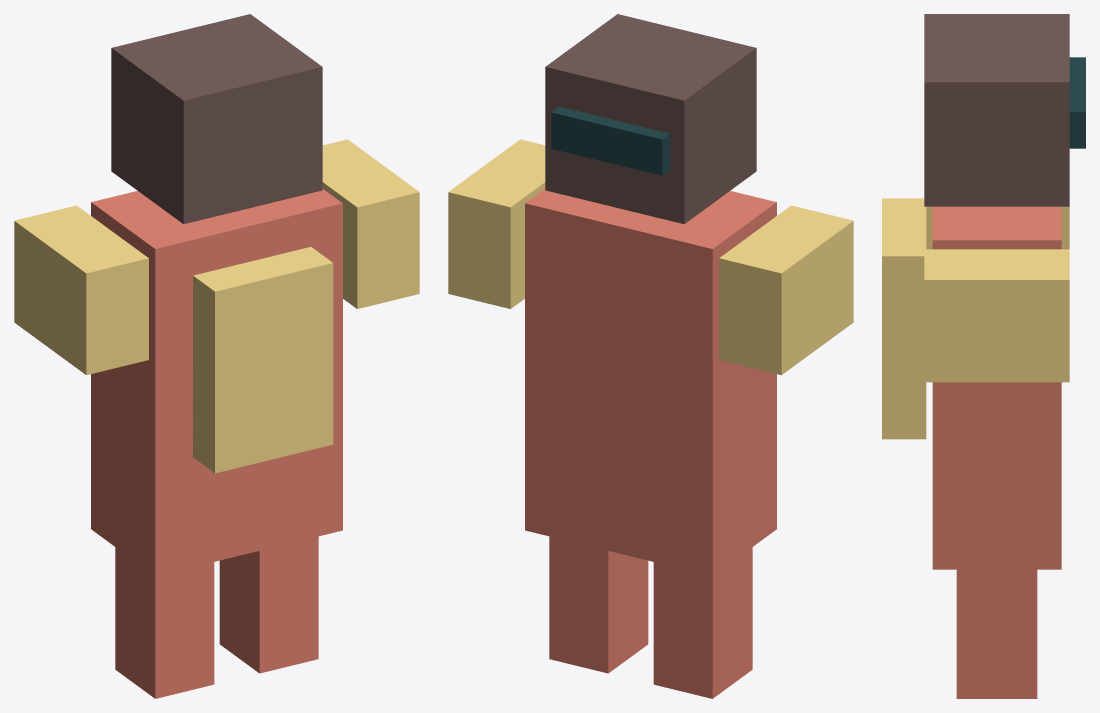
Rendered from seeker.glb.
3 views of the same model, side by side, from view 1: azimuth 30°, elevation 25°; view 2: azimuth 150°, elevation 25°; view 3: azimuth 270°, elevation 25° (orthographic).
Visible parts, largest first — view 1: body, helmet, pack, left-shoulder, left-leg, right-shoulder, right-leg; view 2: body, helmet, left-shoulder, left-leg, right-shoulder, right-leg, visor; view 3: body, helmet, right-shoulder, right-leg, pack, visor, left-shoulder.
Part boxes in pixels (x1,y1,x2,y2): body: (91, 189, 342, 576); helmet: (111, 14, 322, 224); pack: (193, 247, 333, 473); left-shoulder: (14, 205, 148, 375); left-leg: (115, 547, 214, 698); right-shoulder: (322, 139, 419, 308); right-leg: (219, 536, 318, 673); body: (525, 189, 776, 576); helmet: (545, 14, 756, 224); left-shoulder: (719, 205, 853, 375); left-leg: (653, 547, 752, 698); right-shoulder: (448, 139, 545, 308); right-leg: (549, 536, 648, 673); visor: (551, 106, 670, 175); body: (932, 206, 1061, 569); helmet: (924, 14, 1069, 206); right-shoulder: (924, 249, 1069, 382); right-leg: (956, 569, 1037, 698); pack: (882, 198, 926, 439); visor: (1069, 57, 1085, 148); left-shoulder: (926, 206, 1069, 249).
Size of the model in its own units: 0.96 by 1.67 by 0.505.
